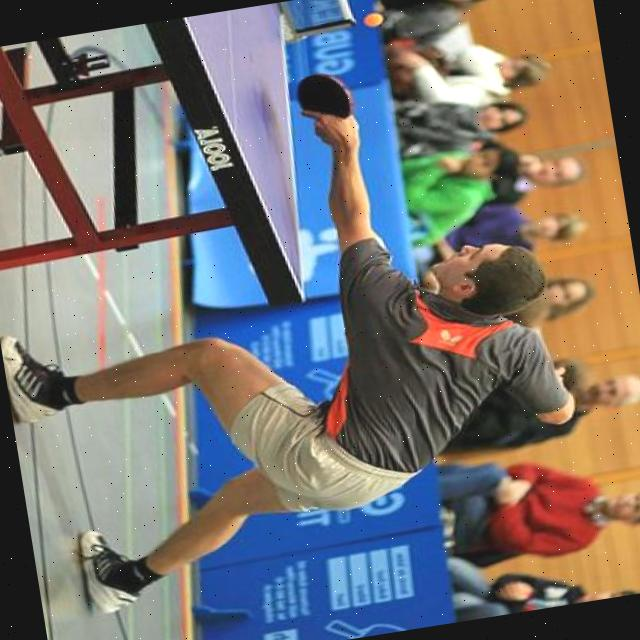ping-pong-ball: (362, 10, 386, 30)
